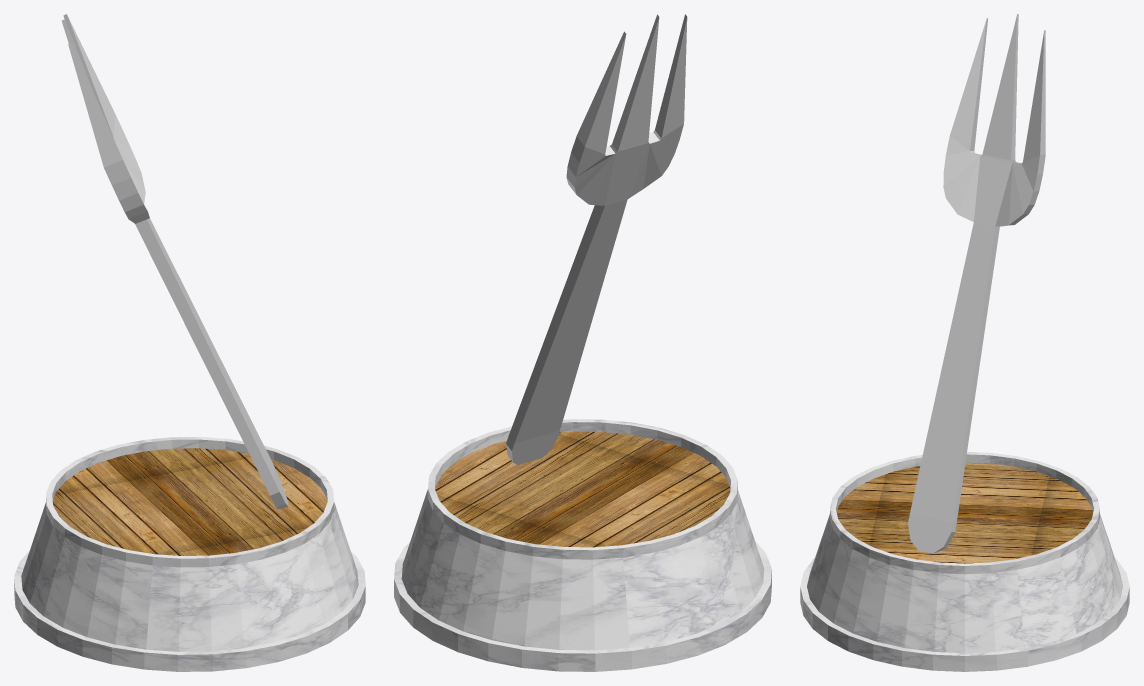
File: cannibal.glb
The picture shows the model from 3 angles, left to right: view 1: azimuth 30°, elevation 25°; view 2: azimuth 150°, elevation 25°; view 3: azimuth 270°, elevation 25°; orthographic projection. The views are drawn at different scales.
Visible parts, largest first — view 1: taij, BezierCurve.001; view 2: taij, BezierCurve.001; view 3: taij, BezierCurve.001.
Part boxes in pixels (x1,y1,x2,y2): taij: [14, 437, 365, 671]; BezierCurve.001: [61, 14, 288, 509]; taij: [394, 419, 771, 671]; BezierCurve.001: [506, 14, 687, 464]; taij: [800, 452, 1129, 671]; BezierCurve.001: [908, 14, 1045, 553].
Size of the model in its own units: 1 by 1.82 by 1.
Materials: 3 (2 with a texture image).
